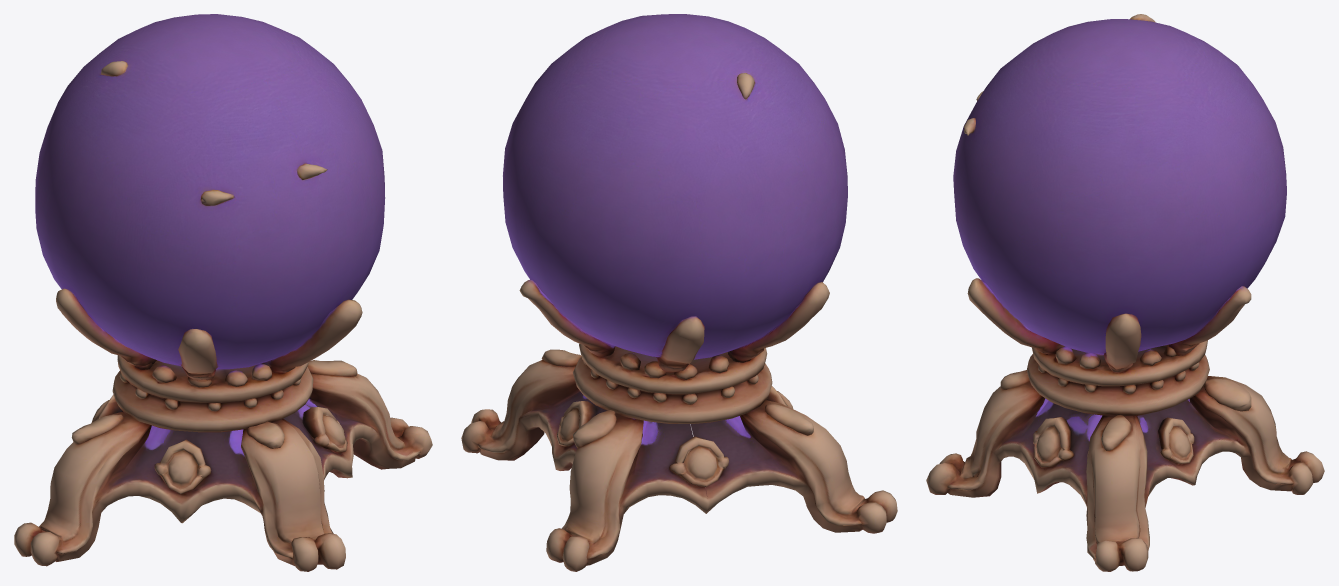
File: r33-crystalball.glb
3 renders of one model, left to right at view 1: azimuth 30°, elevation 25°; view 2: azimuth 150°, elevation 25°; view 3: azimuth 270°, elevation 25°, orthographic. The views are drawn at different scales.
Visible parts, largest first — view 1: tripo_node_059908eb-a912-4f71-9872-c66f8ecb7802; view 2: tripo_node_059908eb-a912-4f71-9872-c66f8ecb7802; view 3: tripo_node_059908eb-a912-4f71-9872-c66f8ecb7802.
Boxes of the visible parts, <box> form: tripo_node_059908eb-a912-4f71-9872-c66f8ecb7802: <box>14,14,432,571</box>; tripo_node_059908eb-a912-4f71-9872-c66f8ecb7802: <box>461,14,897,571</box>; tripo_node_059908eb-a912-4f71-9872-c66f8ecb7802: <box>926,14,1324,571</box>.
Bounding box in the file's own units: 0.9199 × 0.998 × 0.8066.
Materials: 1 (1 with a texture image).
